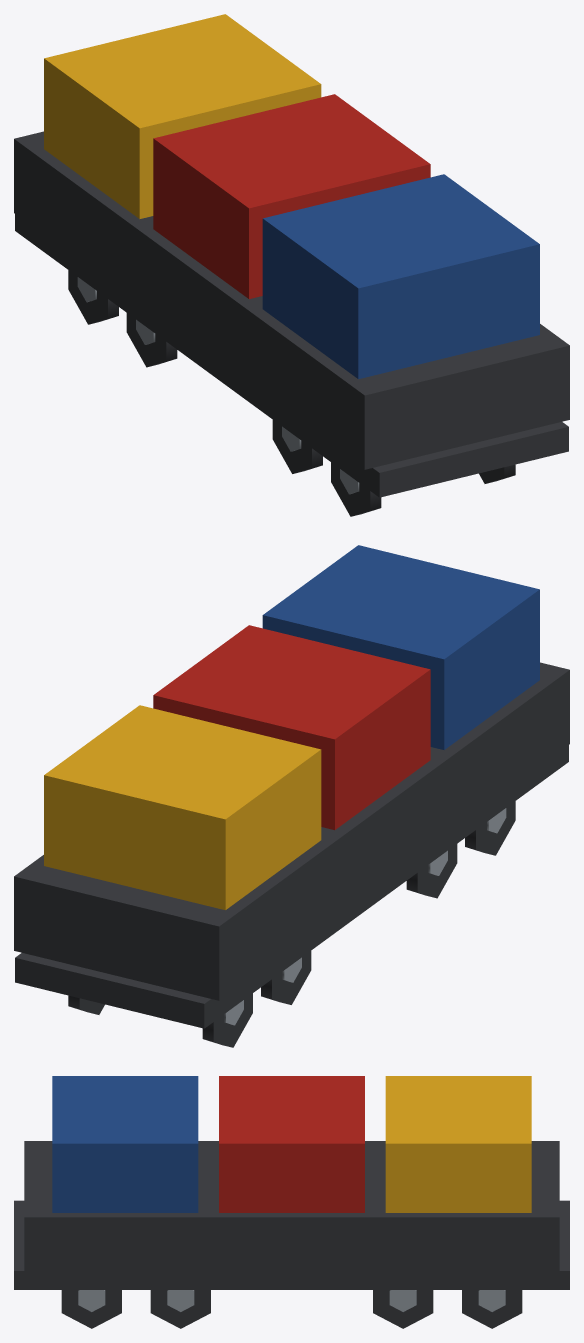
Rendered from veh_ground_rail_wagon_a05_lod1.glb.
The picture shows the model from 3 angles, top to bottom: view 1: azimuth 30°, elevation 25°; view 2: azimuth 150°, elevation 25°; view 3: azimuth 270°, elevation 25°; orthographic projection. The views are drawn at different scales.
Visible parts, largest first — view 1: body, wheel_2, wheel_0, wheel_4, wheel_6; view 2: body, wheel_4, wheel_2, wheel_6, wheel_0; view 3: body, wheel_3, wheel_5, wheel_1, wheel_7.
Boxes of the visible parts, <box> form: body: <box>14,14,569,497</box>; wheel_2: <box>126,313,177,367</box>; wheel_0: <box>68,270,118,324</box>; wheel_4: <box>272,420,322,473</box>; wheel_6: <box>331,462,381,516</box>; body: <box>14,545,569,1028</box>; wheel_4: <box>406,844,457,898</box>; wheel_2: <box>261,951,311,1004</box>; wheel_6: <box>465,801,515,855</box>; wheel_0: <box>202,993,252,1047</box>; body: <box>14,1076,569,1289</box>; wheel_3: <box>373,1290,433,1328</box>; wheel_5: <box>150,1290,210,1328</box>; wheel_1: <box>462,1290,522,1328</box>; wheel_7: <box>61,1290,121,1328</box>.
Bounding box in the file's own units: 2.6 × 3.05 × 8.
